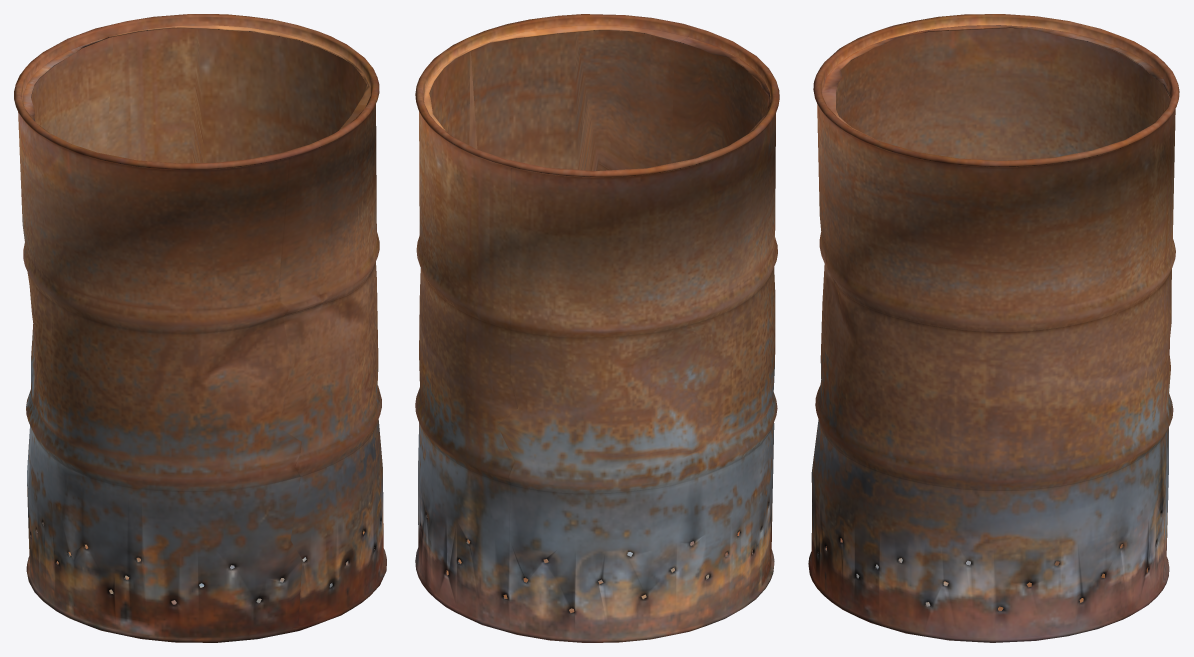
File: barrel_stove.glb
3 views of the same model, side by side, from view 1: azimuth 30°, elevation 25°; view 2: azimuth 150°, elevation 25°; view 3: azimuth 270°, elevation 25° (orthographic).
Parts seen in each view (by area): view 1: barrel_stove; view 2: barrel_stove; view 3: barrel_stove.
Boxes of the visible parts, <box> form: barrel_stove: <box>14,14,386,642</box>; barrel_stove: <box>415,14,779,642</box>; barrel_stove: <box>808,14,1179,642</box>.
Bounding box in the file's own units: 0.6006 × 0.8671 × 0.6009.
Materials: 1 (1 with a texture image).
